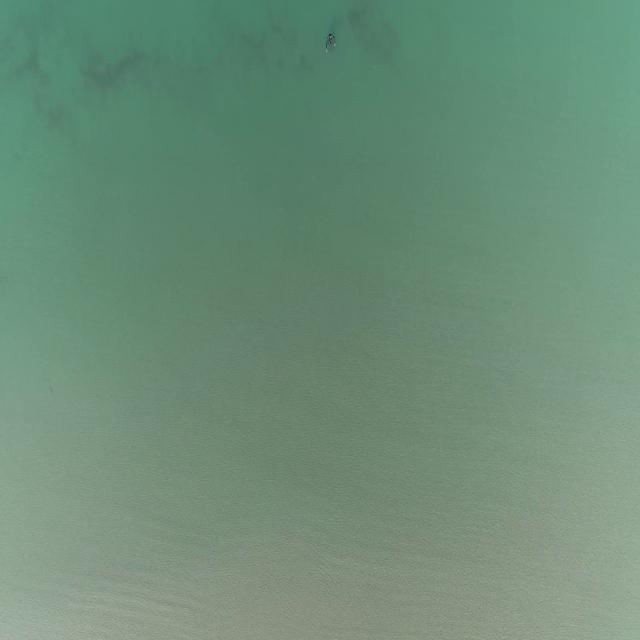person: (325, 31, 338, 50)
